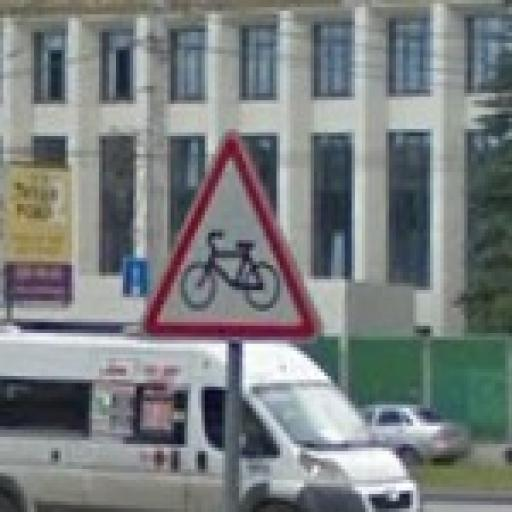traffic_sign: (145, 134, 326, 341)
